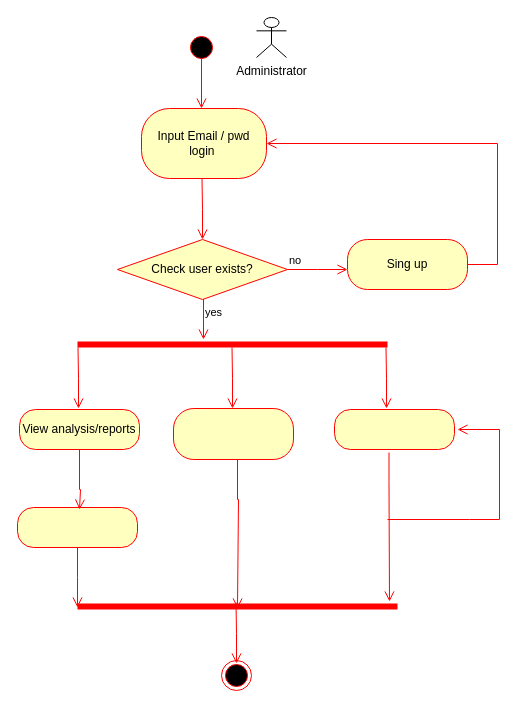
This 527x708 diagram has some shape labels left out. Here are the shapes that lost their labels. From the top down, the centre of each, then its label:
the point at 233,434: Maintain profile
the point at 394,429: Add/Edit poll questions
the point at 77,527: Print / Save results
